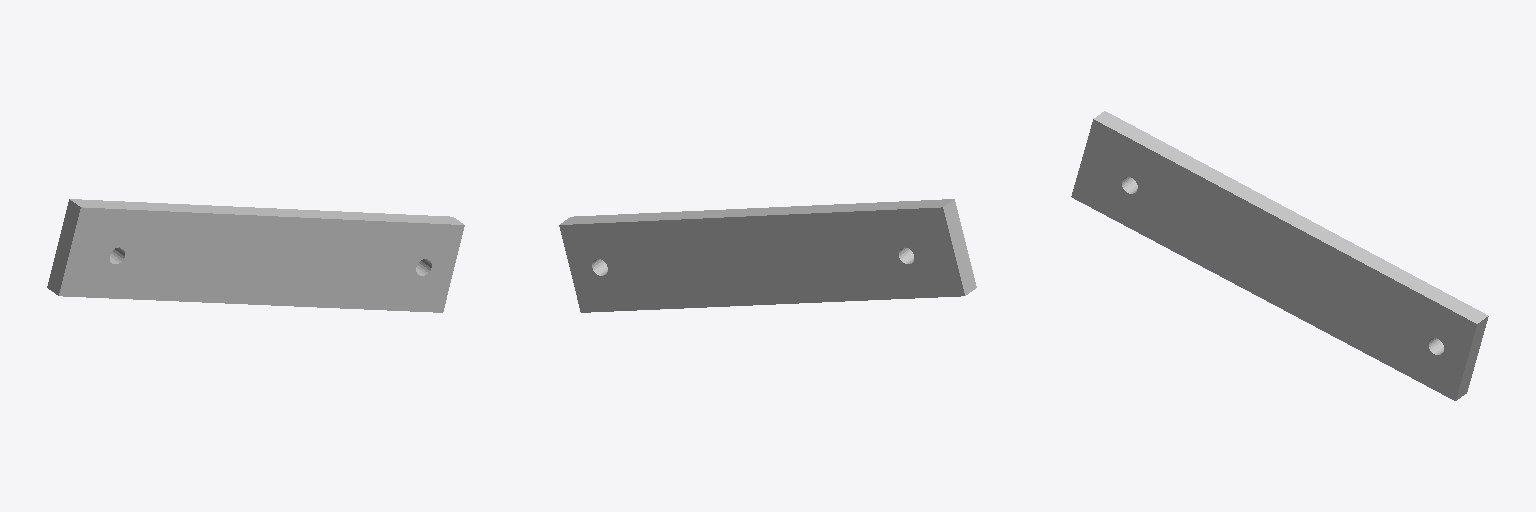
Rendered from cad-Cut013.obj.
3 renders of one model, left to right at view 1: azimuth 30°, elevation 25°; view 2: azimuth 150°, elevation 25°; view 3: azimuth 330°, elevation 25°, orthographic.
Visible parts, largest first — view 1: Cut013; view 2: Cut013; view 3: Cut013.
Boxes of the visible parts, x1,y1,x2,y2 form: Cut013: [47, 199, 464, 312]; Cut013: [559, 199, 976, 312]; Cut013: [1071, 111, 1488, 400].
Bounding box in the file's own units: 50.73 × 23.15 × 2.5.